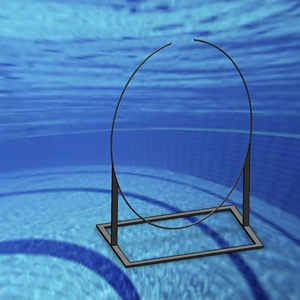circle: (97, 35, 261, 268)
